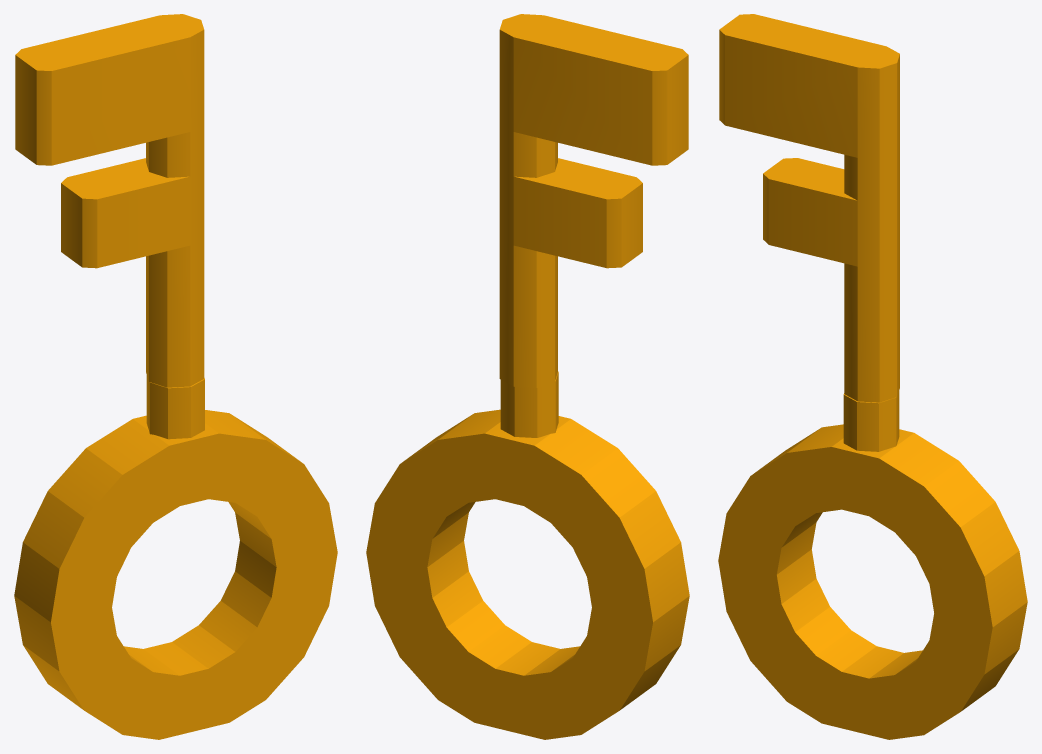
Rendered from key.fbx.
3 renders of one model, left to right at view 1: azimuth 30°, elevation 25°; view 2: azimuth 150°, elevation 25°; view 3: azimuth 330°, elevation 25°, orthographic. The views are drawn at different scales.
Parts seen in each view (by area): view 1: key_2, key_1; view 2: key_2, key_1; view 3: key_2, key_1.
Boxes of the visible parts, x1,y1,x2,y2 form: key_2: (14, 375, 337, 739); key_1: (15, 14, 204, 387); key_2: (366, 371, 689, 739); key_1: (499, 14, 688, 387); key_2: (718, 391, 1027, 739); key_1: (719, 14, 899, 402).
Bounding box in the file's own units: 36.74 × 82.78 × 7.95.
